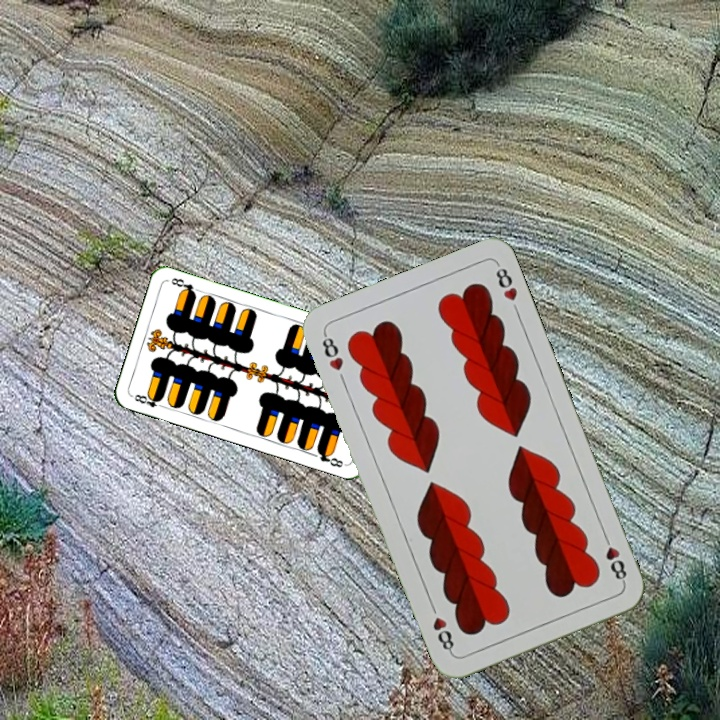E8: (128, 390, 168, 411)
H8: (599, 530, 630, 586), (318, 329, 346, 374)
